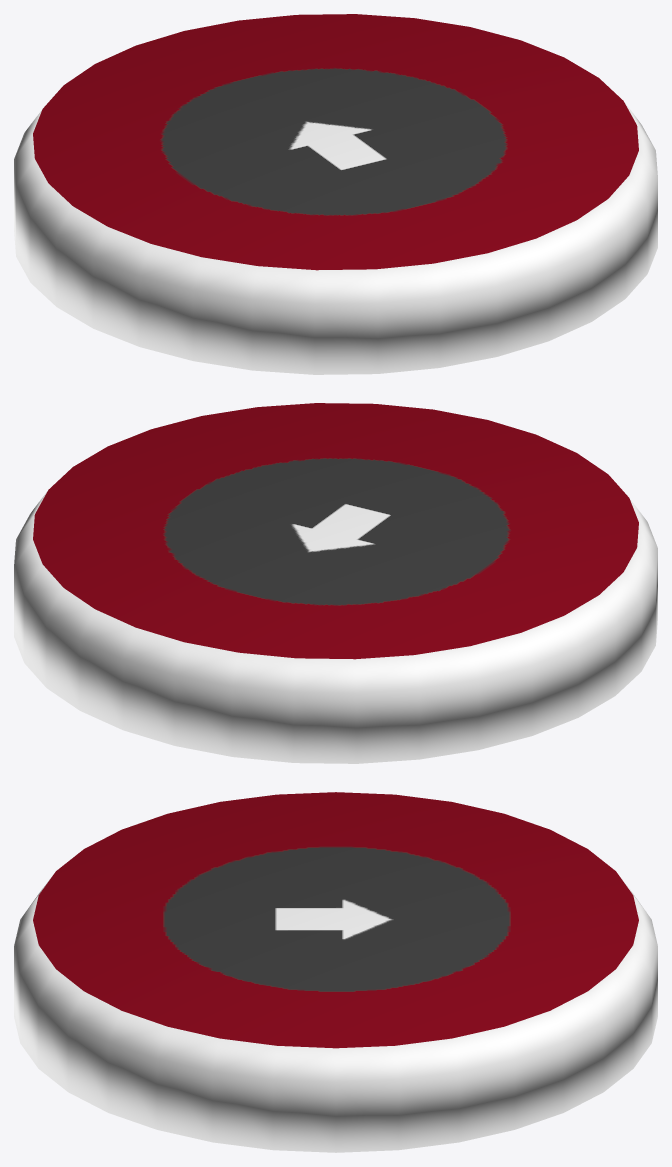
The model's file is jump.fbx.
3 views of the same model, one above another, from view 1: azimuth 30°, elevation 25°; view 2: azimuth 150°, elevation 25°; view 3: azimuth 270°, elevation 25° (orthographic).
Visible parts, largest first — view 1: Cylinder; view 2: Cylinder; view 3: Cylinder.
Boxes of the visible parts, x1,y1,x2,y2 form: Cylinder: [14, 14, 657, 374]; Cylinder: [14, 403, 657, 763]; Cylinder: [14, 792, 657, 1152].
Bounding box in the file's own units: 200 × 33.08 × 200.
Materials: 1 (1 with a texture image).
